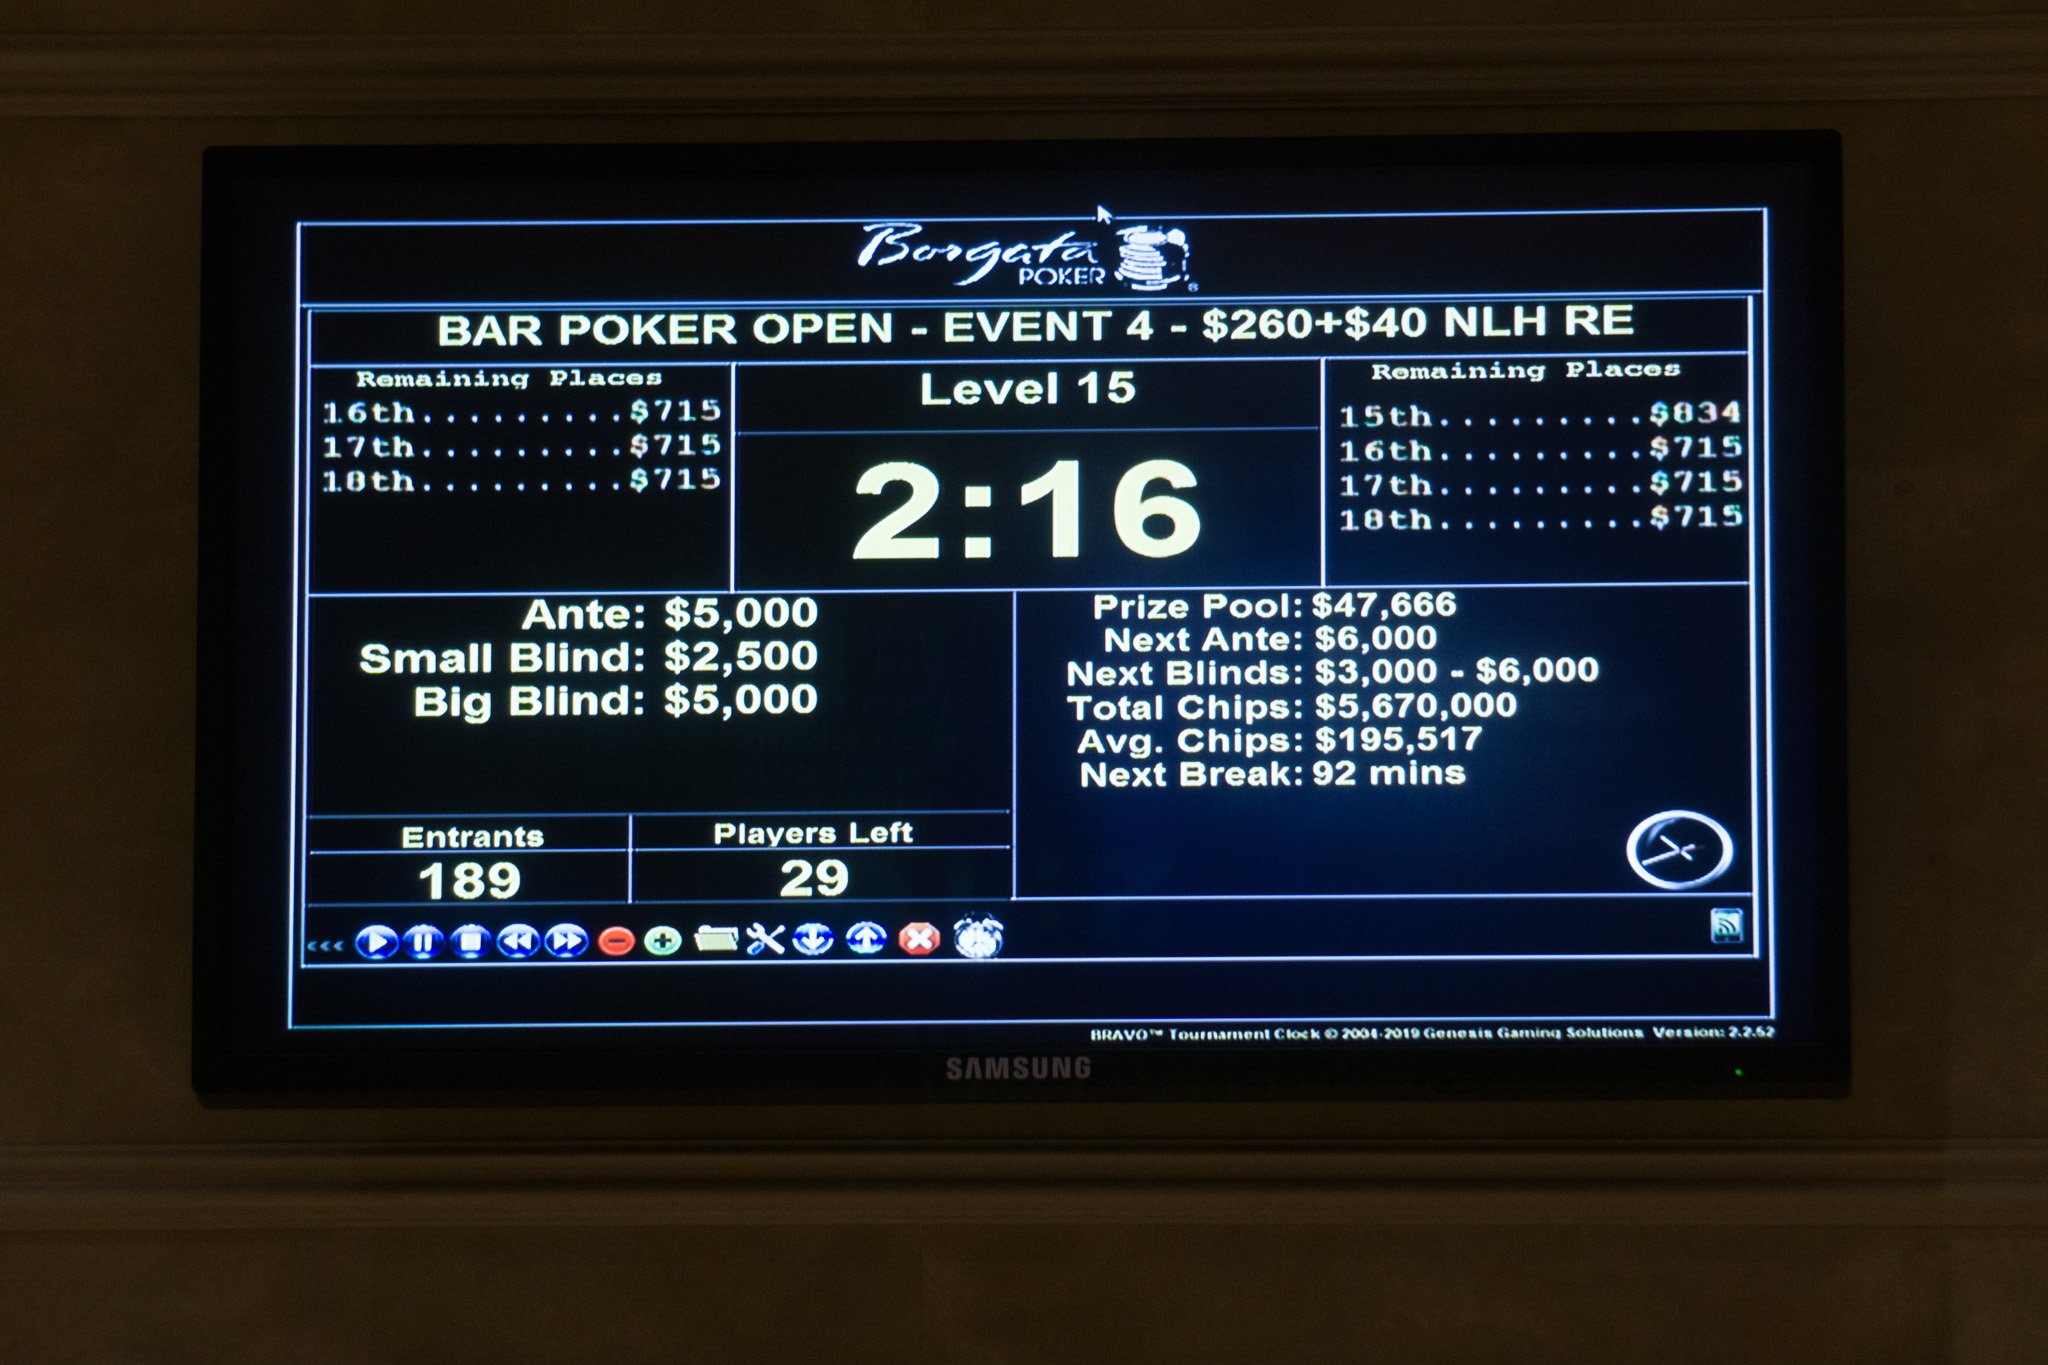PlayersLeft: (625, 808, 1018, 905)
Remaining: (307, 359, 739, 599), (1320, 354, 1757, 587)
TournamentClock: (292, 298, 1764, 903)
